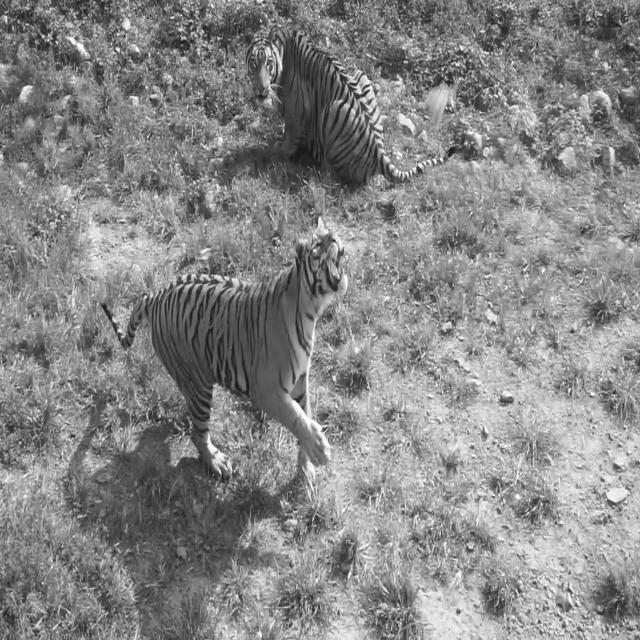Tiger: (100, 215, 348, 487), (244, 23, 458, 186)
